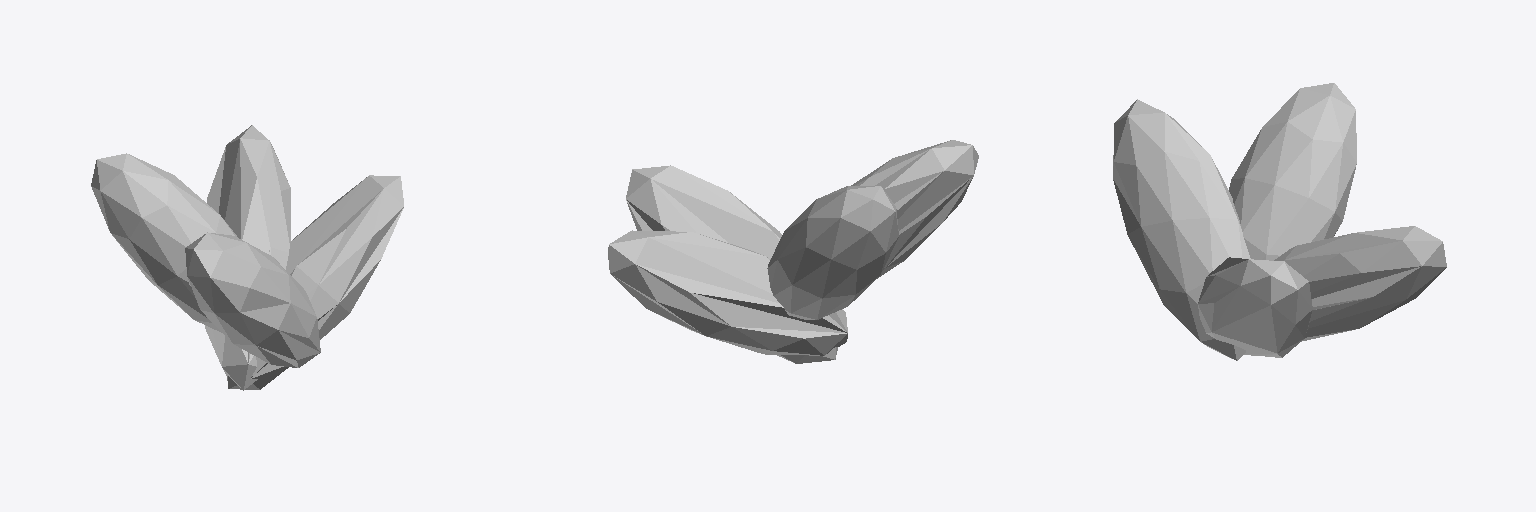
The model's file is grass2.obj.
3 views of the same model, side by side, from view 1: azimuth 30°, elevation 25°; view 2: azimuth 150°, elevation 25°; view 3: azimuth 270°, elevation 25° (orthographic).
Visible parts, largest first — view 1: Icosphere.042; view 2: Icosphere.042; view 3: Icosphere.042.
Boxes of the visible parts, x1=… form: Icosphere.042: x1=91, y1=125, x2=403, y2=390; Icosphere.042: x1=608, y1=140, x2=978, y2=363; Icosphere.042: x1=1113, y1=83, x2=1446, y2=360.
Bounding box in the file's own units: 0.4735 × 0.3512 × 0.484.